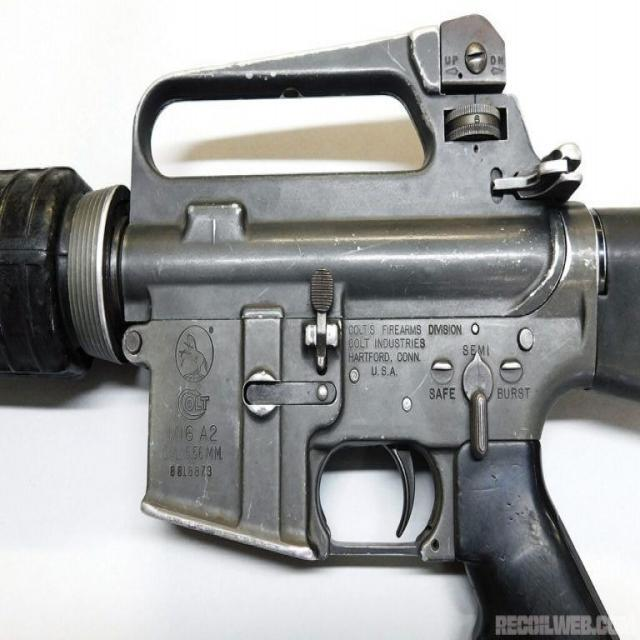m16: (104, 42, 623, 588)
